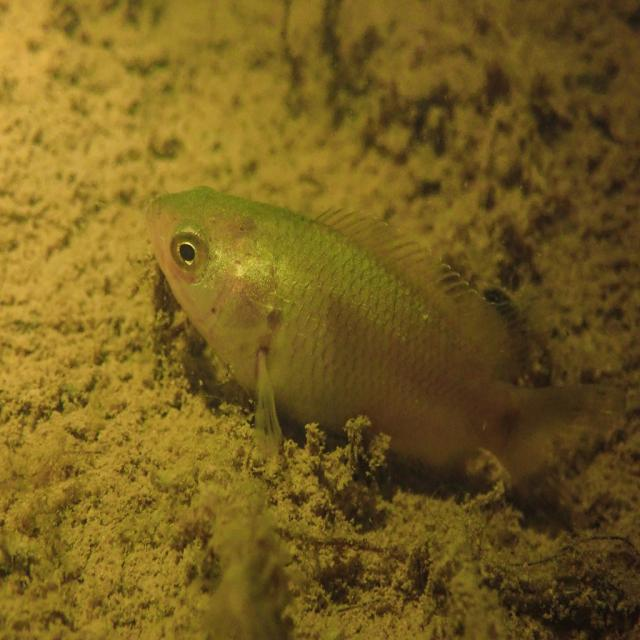Climbing-Perch: (140, 144, 616, 558)
